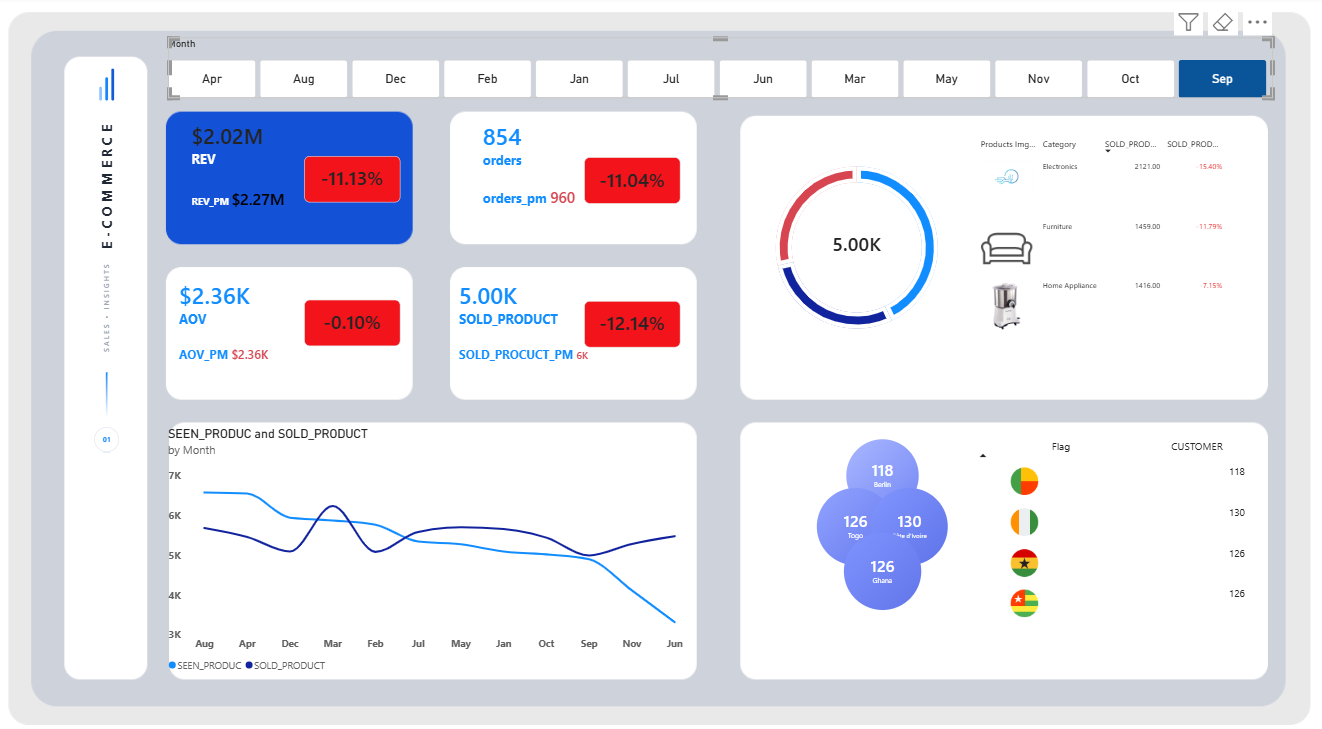

This screenshot's page, from the dashboard's own definition file:
{"tool":"powerbi","page":{"name":"Page 1","canvas":[1920,1080],"ordinal":0},"visuals":[{"type":"cardVisual","fields":{"Data":["DAX.REV"]},"box":[263.5,168.8,319,189.4],"z":0},{"type":"advancedSlicerVisual","fields":{"Values":["Date.Month"]},"box":[246.1,59.7,1599.7,88.7],"z":1},{"type":"card","fields":{"Values":["DAX.REV_GROTH"]},"box":[443.4,231.6,139.3,67],"z":2},{"type":"cardVisual","fields":{"Data":["DAX.orders"]},"box":[685.9,168.3,319,189.4],"z":3},{"type":"card","fields":{"Values":["DAX.orders_growth"]},"box":[848.7,233.4,139.3,67],"z":4},{"type":"cardVisual","fields":{"Data":["DAX.SOLD_PRODUCT"]},"box":[651.5,398.1,352.9,190],"z":5},{"type":"cardVisual","fields":{"Data":["DAX.AOV"]},"box":[246.1,398.1,319,189.4],"z":6},{"type":"card","fields":{"Values":["DAX.AOV_GROWTH"]},"box":[443.4,439.7,139.3,67],"z":7},{"type":"card","fields":{"Values":["DAX.SOLD_PRODUCT_GROWTH"]},"box":[848.7,441.6,139.3,67],"z":8},{"type":"lineChart","fields":{"Category":["Date.Month"],"Y":["DAX.SEEN_PRODUC","DAX.SOLD_PRODUCT"]},"box":[246.1,622.5,758.2,360.1],"z":9},{"type":"tableEx","fields":{"Values":["Products.Products Img.Img","Products.Category","DAX.SOLD_PRODUCT","DAX.SOLD_PRODUCT_GROWTH"]},"box":[1400.7,186.4,427.1,352.9],"z":10},{"type":"htmlContent443BE3AD55E043BF878BED274D3A6855","fields":{"content":["DAX.HTML Bubble Visual"]},"box":[1089.4,622.5,381.8,360.1],"z":11},{"type":"tableEx","fields":{"Values":["Country Flags.Flag","DAX.CUSTOMER"]},"box":[1398.9,622.5,428.9,360.1],"z":12},{"type":"donutChart","fields":{"Category":["Products.Category"],"Y":["CountNonNull(Products.ProductID)"]},"box":[1073.1,202.7,340.2,323.9],"z":13},{"type":"cardVisual","fields":{"Data":["DAX.SOLD_PRODUCT"]},"box":[1172.7,316.7,141.2,83.2],"z":14},{"type":"htmlContent443BE3AD55E043BF878BED274D3A6855","fields":{"content":["DAX.HTML Side Bar"]},"box":[97.7,90.5,119.4,892.2],"z":15}]}

Visuals, with their boxes on the page's 1920x1080 design canvas (x1, y1, x2, y2). These are canvas units, not pixel positions in the 1322x729 screenshot, which may show the page scaled, cropped or inside an application window:
cardVisual - DAX.REV: detection(264, 169, 582, 358)
advancedSlicerVisual - Date.Month: detection(246, 60, 1846, 148)
card - DAX.REV_GROTH: detection(443, 232, 583, 299)
cardVisual - DAX.orders: detection(686, 168, 1005, 358)
card - DAX.orders_growth: detection(849, 233, 988, 300)
cardVisual - DAX.SOLD_PRODUCT: detection(652, 398, 1004, 588)
cardVisual - DAX.AOV: detection(246, 398, 565, 588)
card - DAX.AOV_GROWTH: detection(443, 440, 583, 507)
card - DAX.SOLD_PRODUCT_GROWTH: detection(849, 442, 988, 509)
lineChart - Date.Month x DAX.SEEN_PRODUC: detection(246, 622, 1004, 983)
tableEx - Products.Products Img.Img x Products.Category: detection(1401, 186, 1828, 539)
htmlContent443BE3AD55E043BF878BED274D3A6855 - DAX.HTML Bubble Visual: detection(1089, 622, 1471, 983)
tableEx - Country Flags.Flag x DAX.CUSTOMER: detection(1399, 622, 1828, 983)
donutChart - Products.Category x CountNonNull(Products.ProductID): detection(1073, 203, 1413, 527)
cardVisual - DAX.SOLD_PRODUCT: detection(1173, 317, 1314, 400)
htmlContent443BE3AD55E043BF878BED274D3A6855 - DAX.HTML Side Bar: detection(98, 90, 217, 983)
